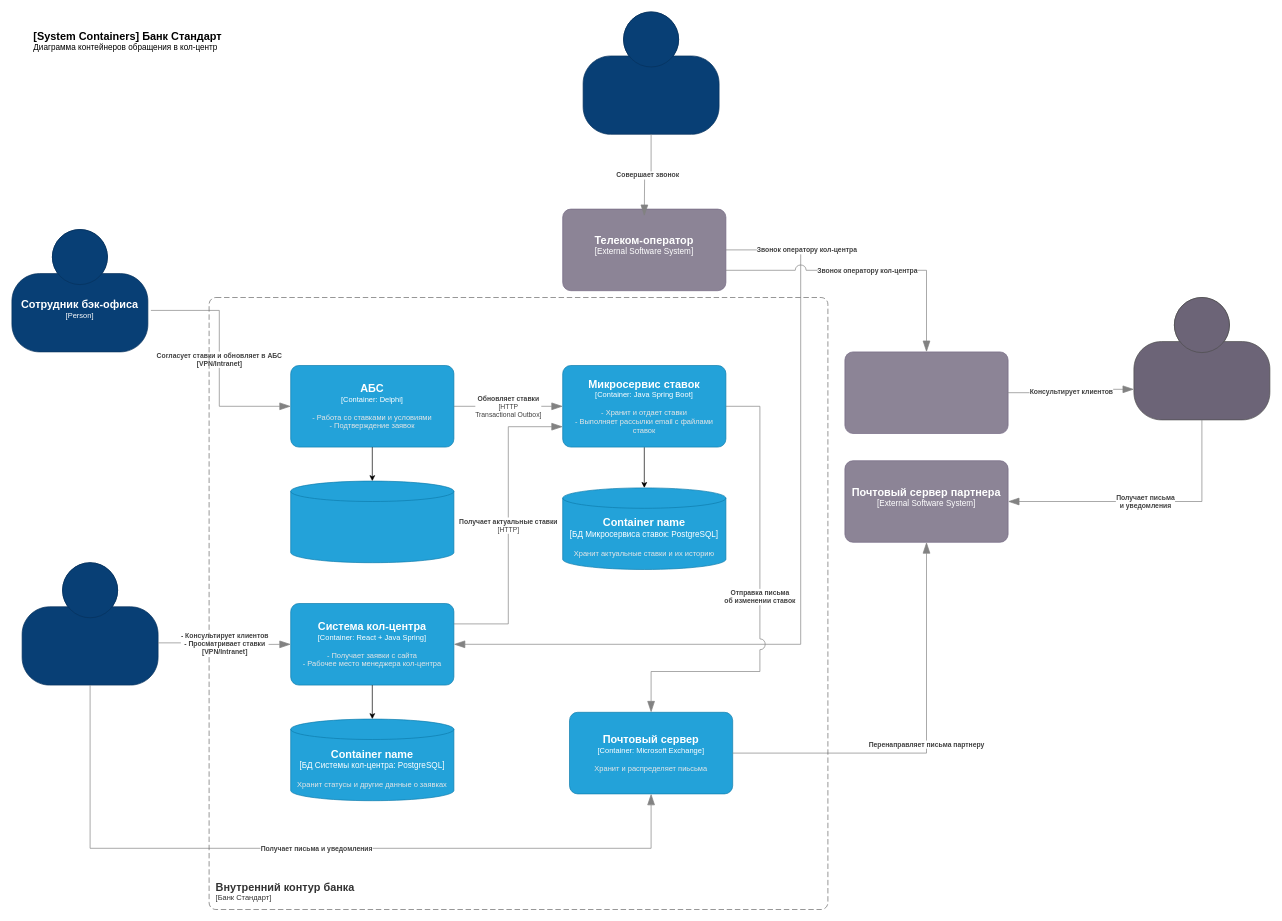
Some shapes in this 1282 by 921 pixel diagram are drawn without their labels. Each missing label, with the centre of its shape:
"Container name [БД АБС: Oracle]" goes at point (372, 521).
"Клиент [Person] Совершает звонки в кол-центр" goes at point (650, 72).
"Оператор партнерского кол-центра [Person] Консультирует клиентов банка" goes at point (1201, 358).
"Система кол-центра партнера [External Software System]" goes at point (926, 392).
"Сотрудник кол-центра [Person]" goes at point (89, 623).
